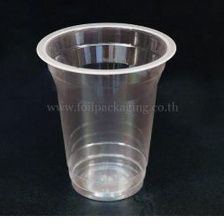glass: (31, 15, 184, 204)
